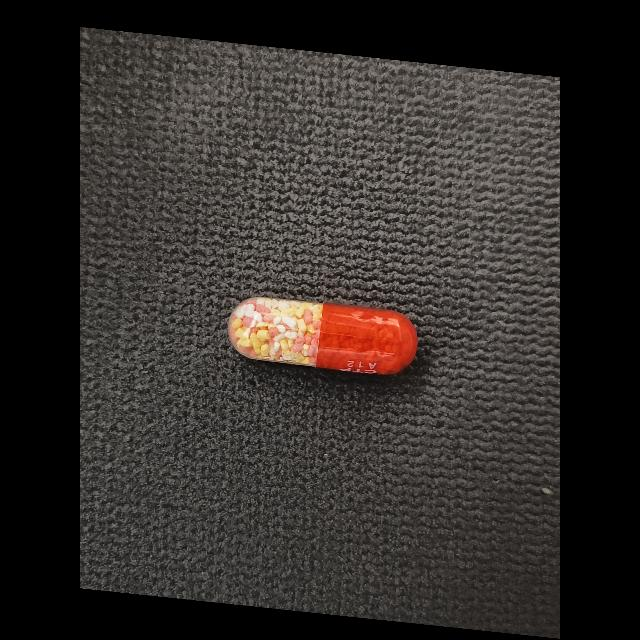Intact Capsule: (228, 297, 418, 375)
